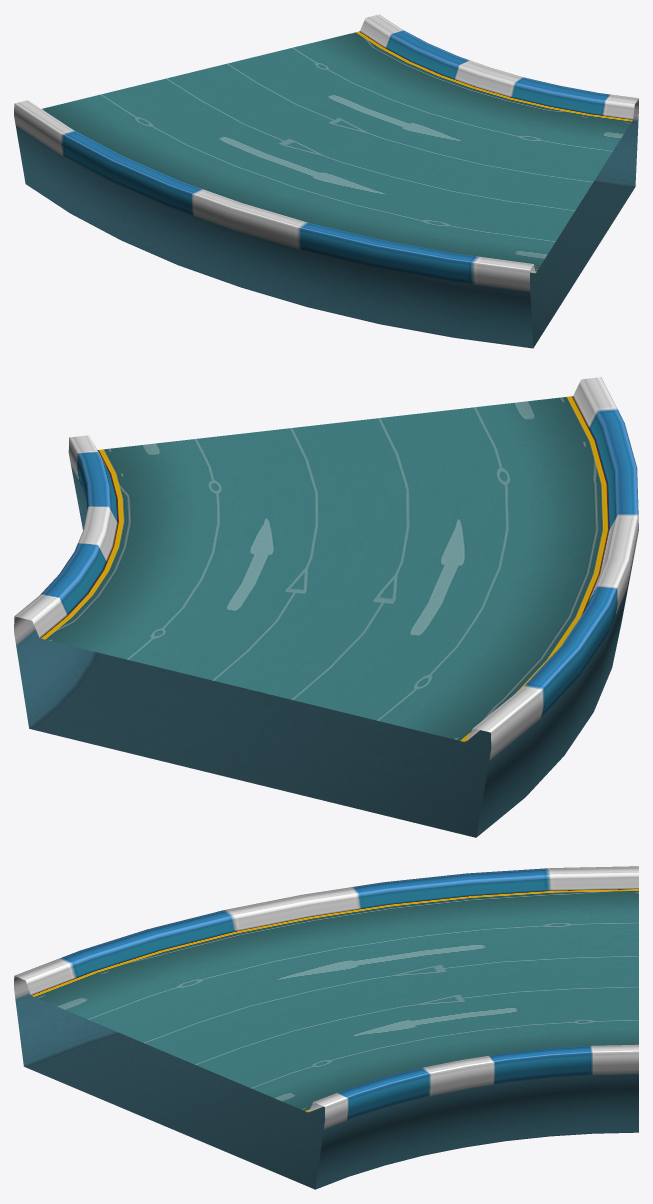
Rendered from lu_wan1.fbx.
3 renders of one model, top to bottom at view 1: azimuth 30°, elevation 25°; view 2: azimuth 150°, elevation 25°; view 3: azimuth 270°, elevation 25°, orthographic. The views are drawn at different scales.
Parts seen in each view (by area): view 1: lu_wan1; view 2: lu_wan1; view 3: lu_wan1.
Boxes of the visible parts, left/top/right/bottom form: lu_wan1: left=14, top=14, right=638, bottom=348; lu_wan1: left=14, top=377, right=638, bottom=837; lu_wan1: left=14, top=866, right=638, bottom=1189.
Bounding box in the file's own units: 6349 × 1066 × 6960.
